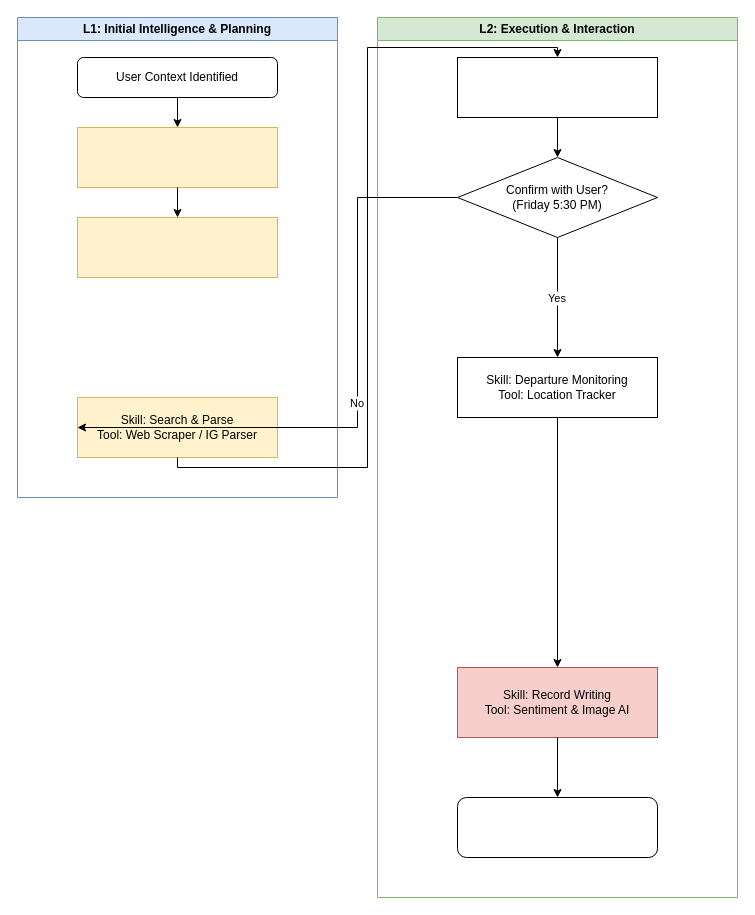
The diagram is 755 pixels wide and 915 high, and some of its shapes have lost their labels. Each missing label, with the centre of its shape:
Skill: Distance Calculation Tool: Maps API / Location Tool: point 557,87
Skill: Find Free Time Tool: User Calendar: point 177,157
Skill: Memory Retrieval Tool: Preferences DB: point 177,247
User Confirms & Edits Final Save to Records: point 557,827
